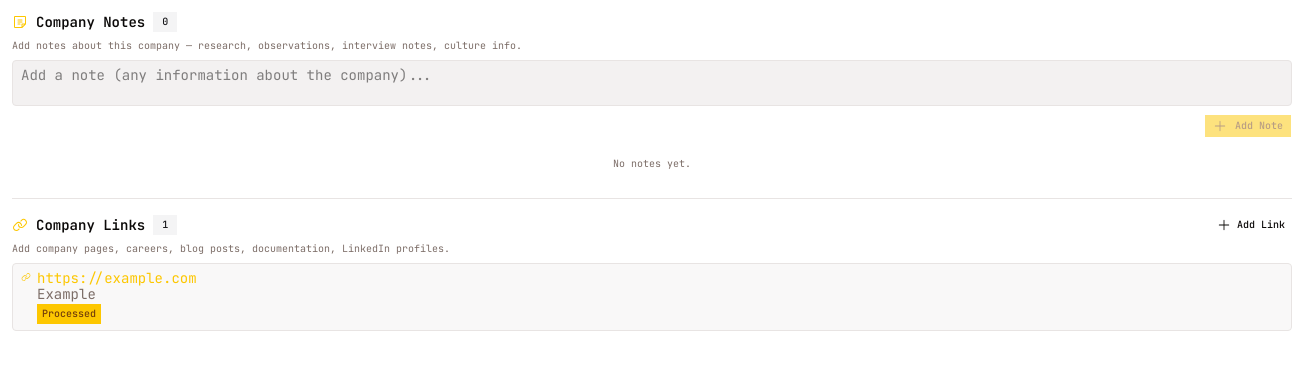
it: CompanyNotesTab › adds a note via companyApi
The width and height of the screenshot is (1304, 376).
Type "New note" into the text box with placeholder "Add a note (any information about the company)...". click: (652, 83)
box: left=12, top=60, right=1292, bottom=106
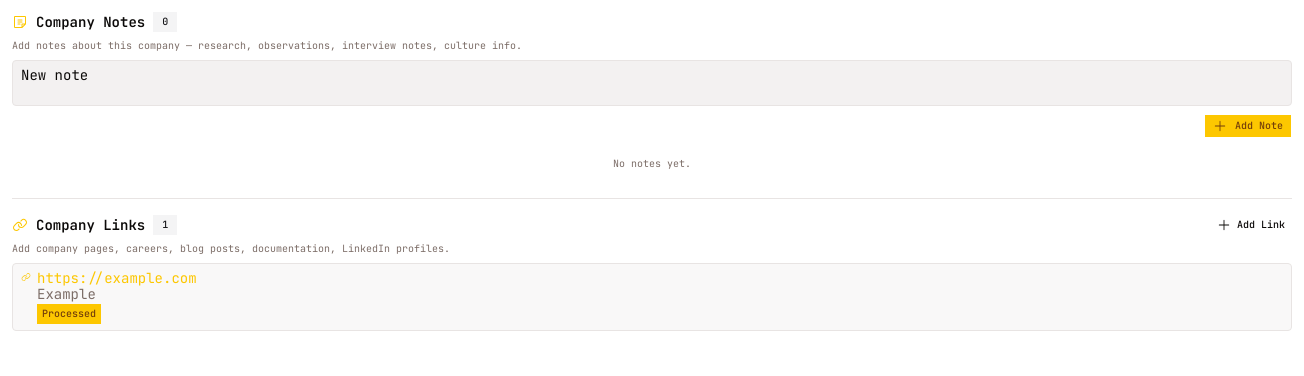
Click the button "Add Note". click: (1248, 126)
box: left=1204, top=114, right=1292, bottom=138
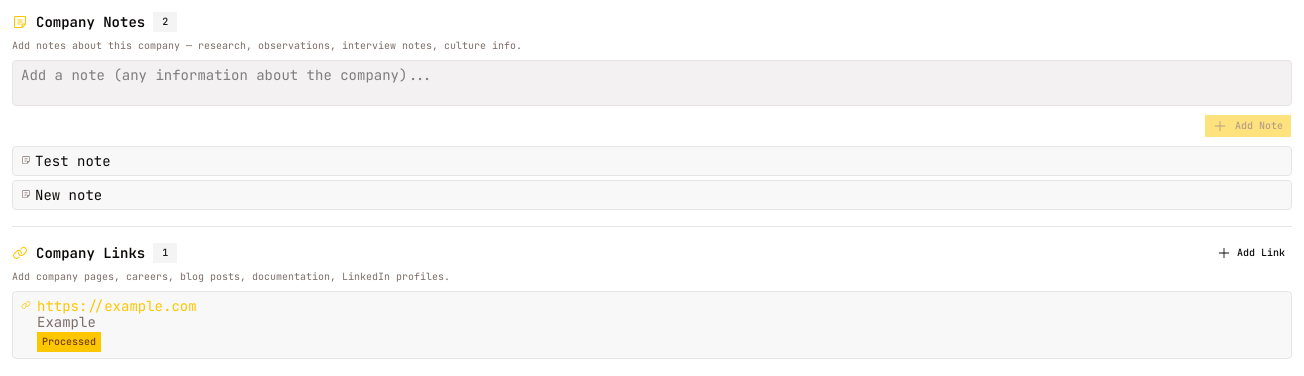
Expected: the text "New note" is shown, left=35, top=186, right=102, bottom=204
